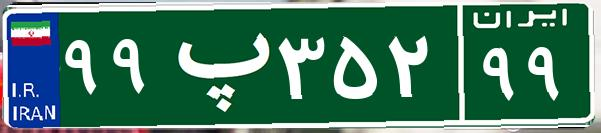2: (385, 28, 445, 110)
3: (273, 28, 330, 110)
5: (330, 28, 385, 110)
9: (57, 26, 110, 107), (475, 38, 525, 113), (110, 28, 158, 105), (525, 38, 570, 115)
پ: (158, 15, 273, 115)
